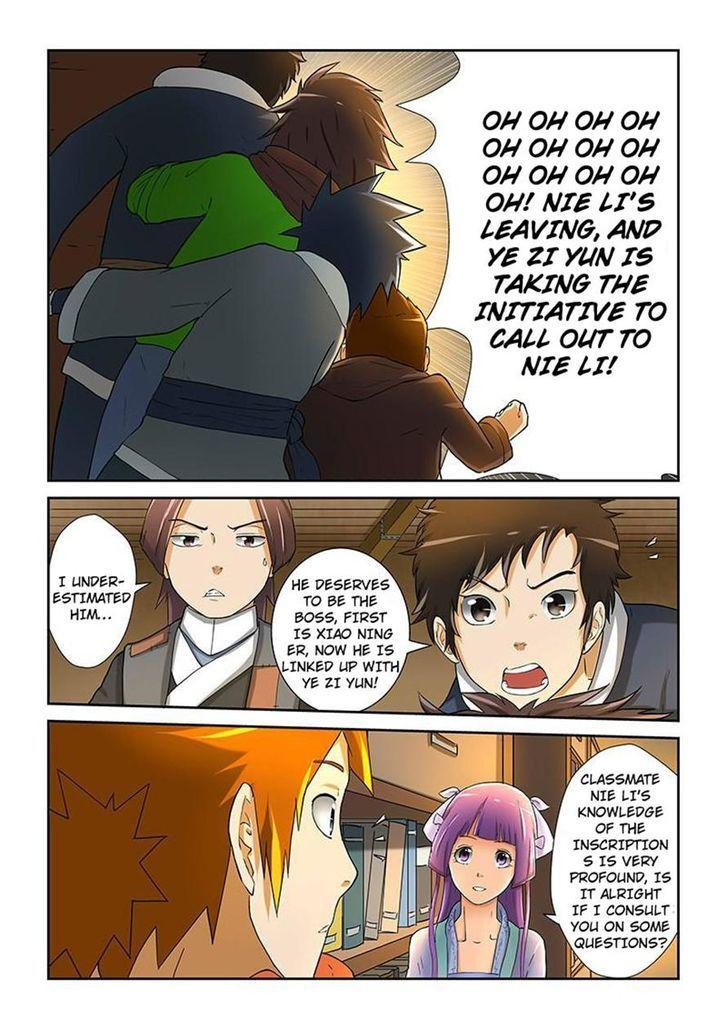Bubble: (395, 46, 682, 485), (548, 742, 682, 981), (270, 546, 412, 714), (46, 512, 139, 669)
